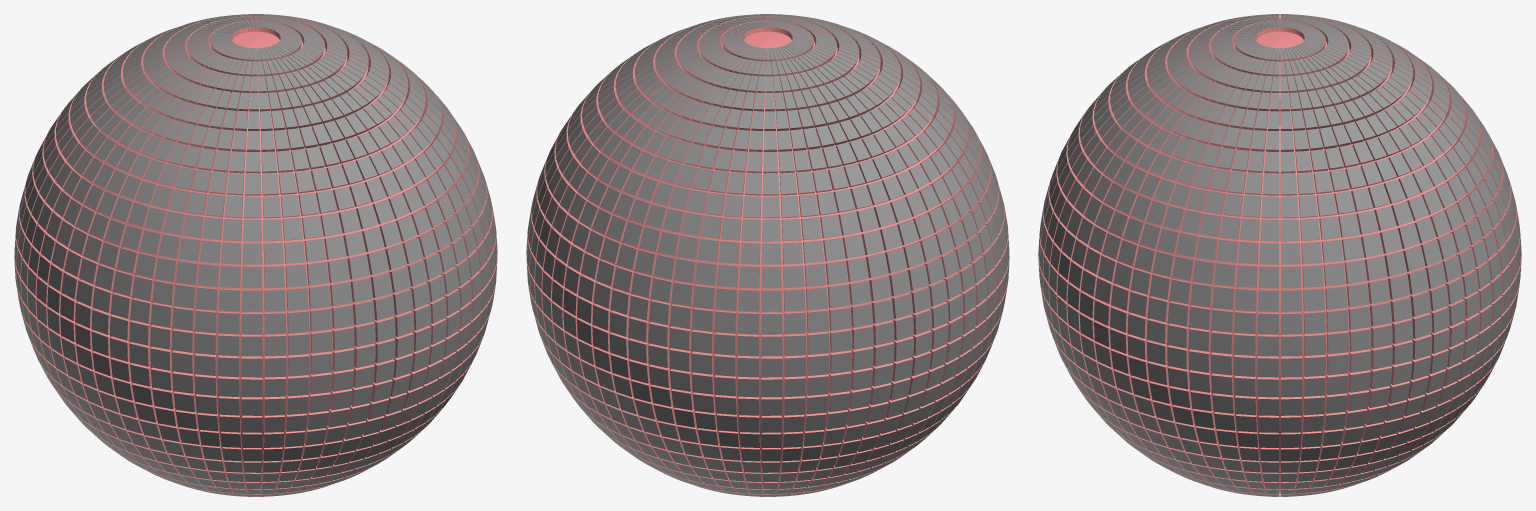
File: DiscoBall.fbx
3 renders of one model, left to right at view 1: azimuth 30°, elevation 25°; view 2: azimuth 150°, elevation 25°; view 3: azimuth 270°, elevation 25°, orthographic.
Visible parts, largest first — view 1: Sphere001; view 2: Sphere001; view 3: Sphere001.
Part boxes in pixels (box(x1,y1,x2,y2)): Sphere001: box(14, 14, 497, 496); Sphere001: box(526, 14, 1009, 496); Sphere001: box(1038, 14, 1521, 496).
Size of the model in its own units: 204 by 203 by 204.
